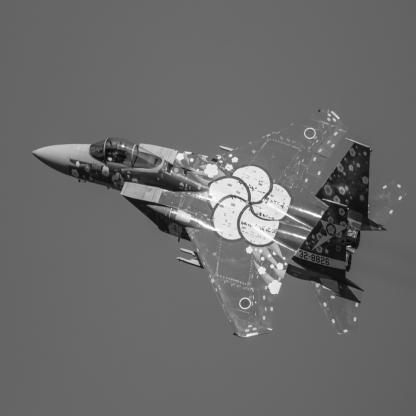F15: (32, 109, 408, 339)
